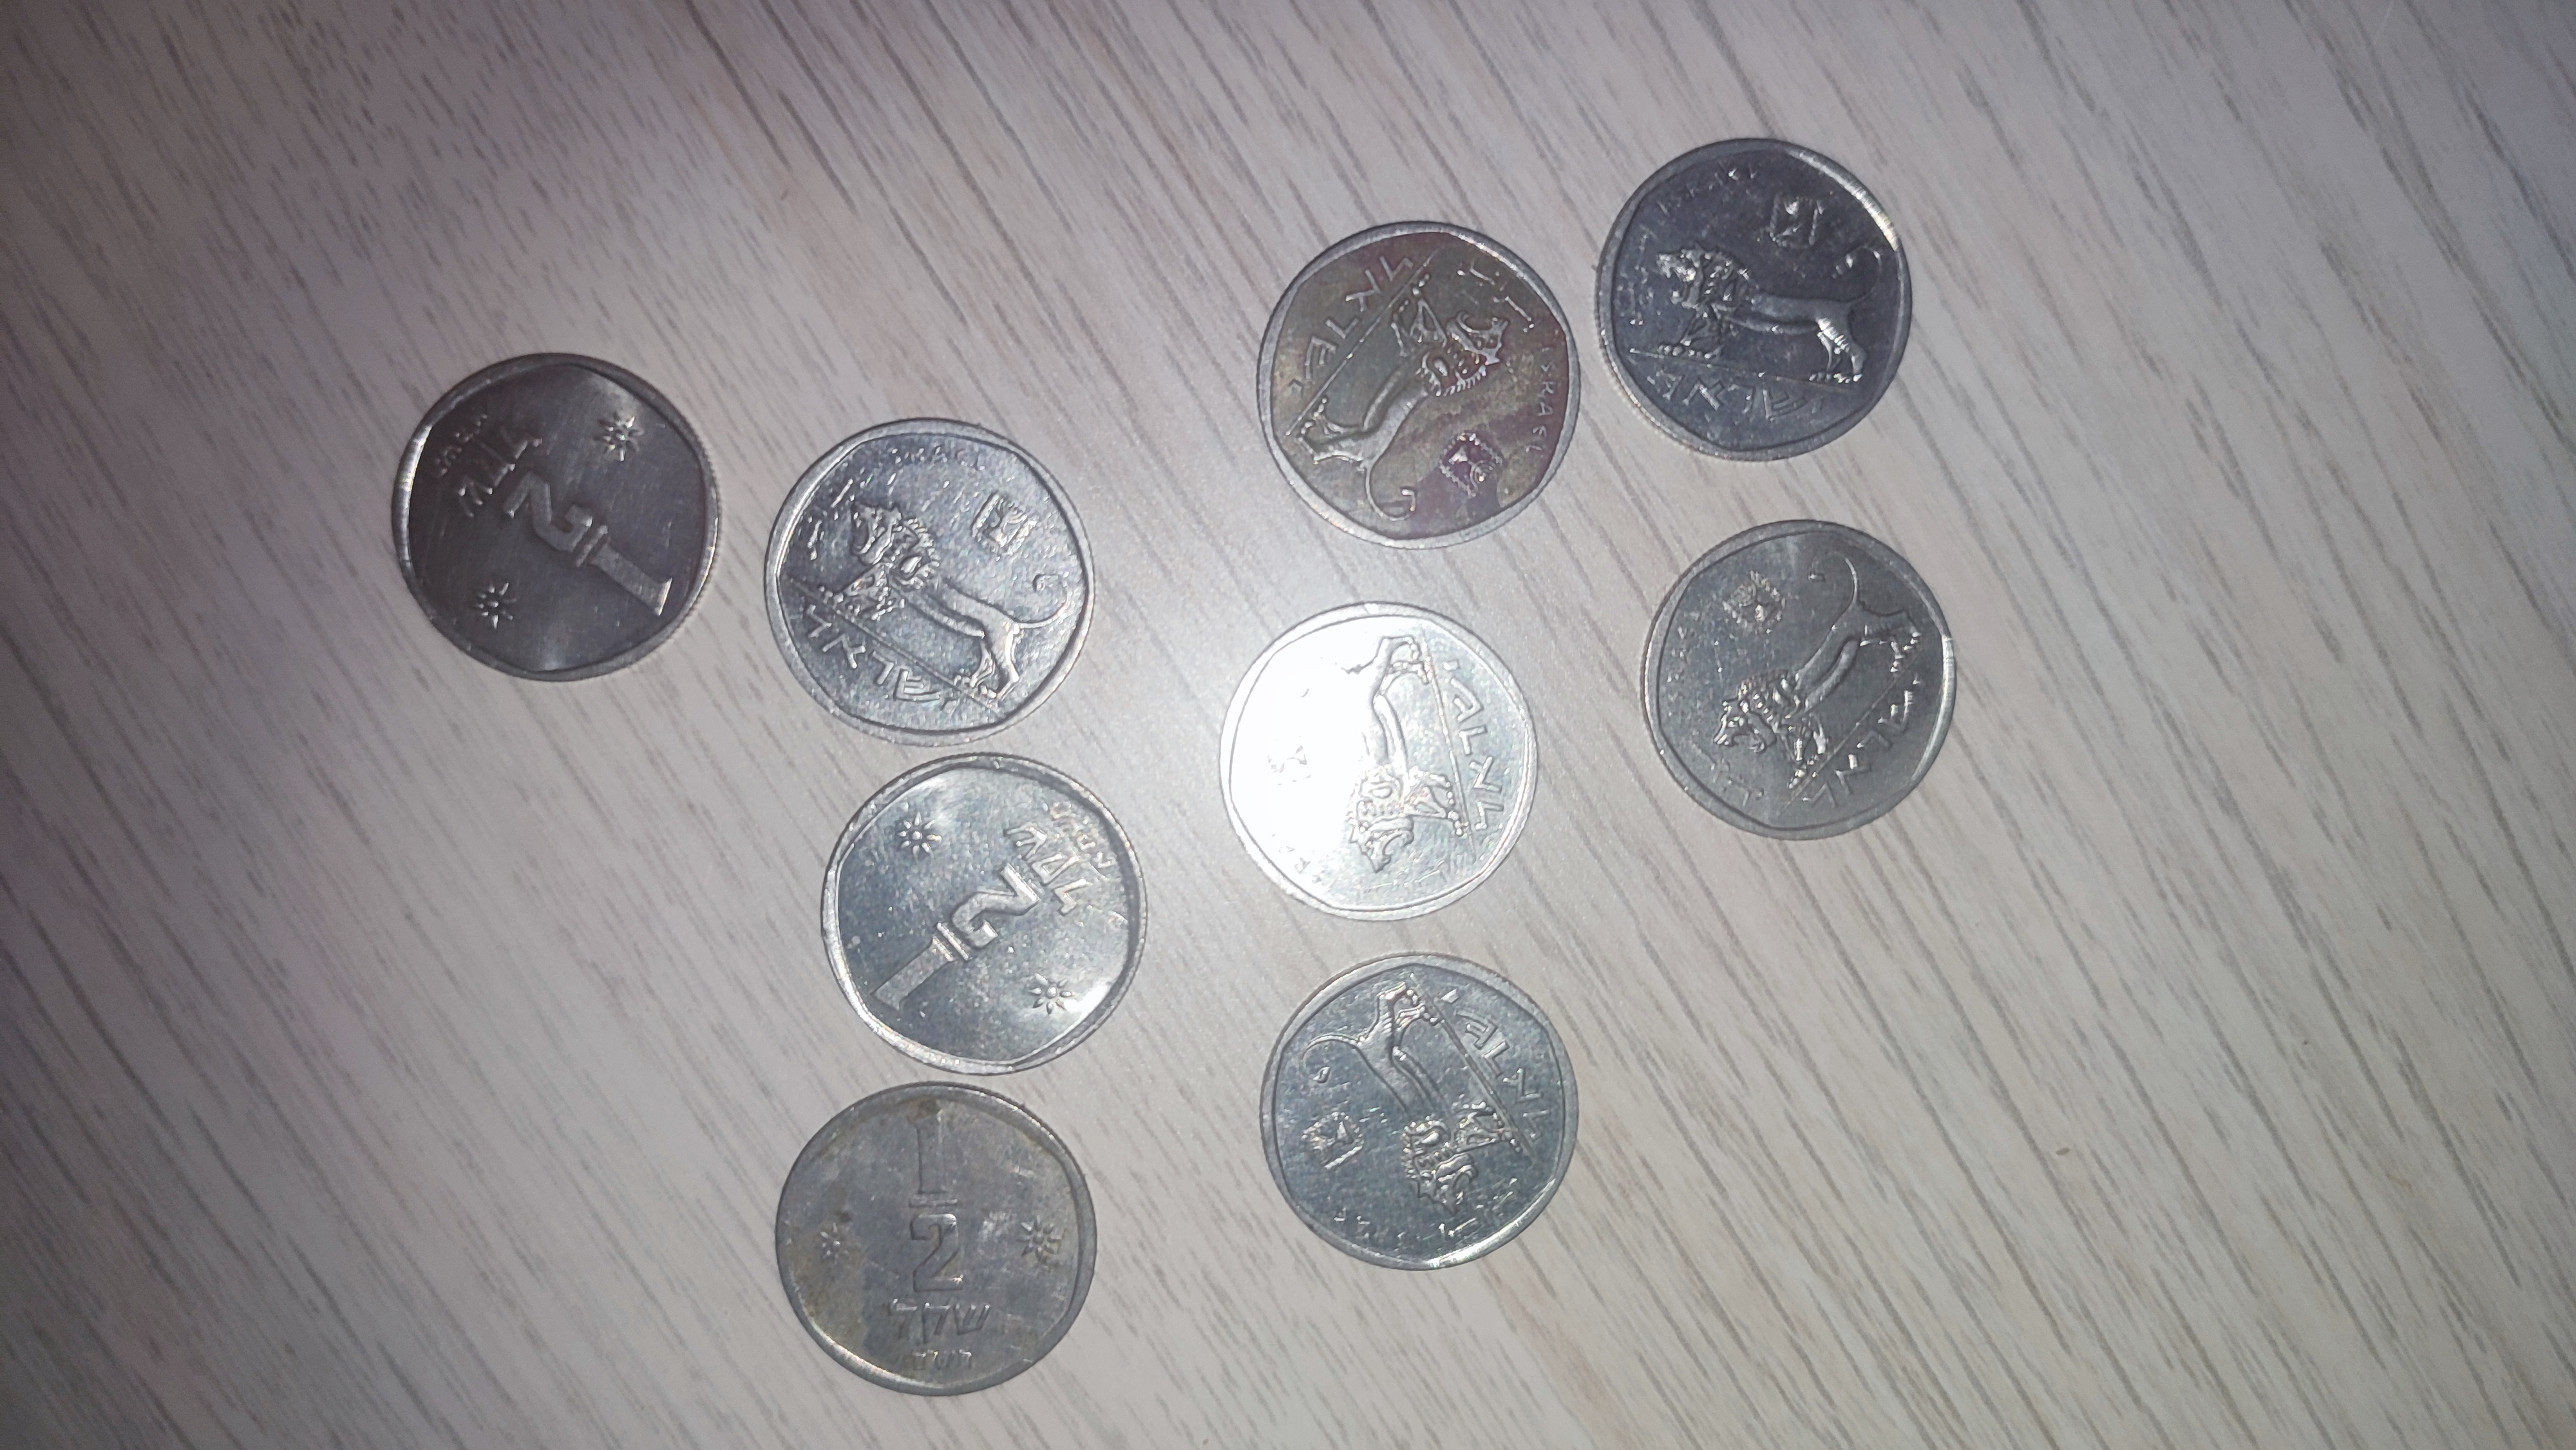1/2 old sheqel: (379, 348, 738, 690), (1246, 212, 1591, 557), (755, 410, 1104, 744), (812, 748, 1154, 1084), (1633, 515, 1967, 854), (1210, 591, 1545, 927), (770, 1077, 1108, 1408), (1253, 948, 1589, 1275), (1594, 126, 1916, 462)
